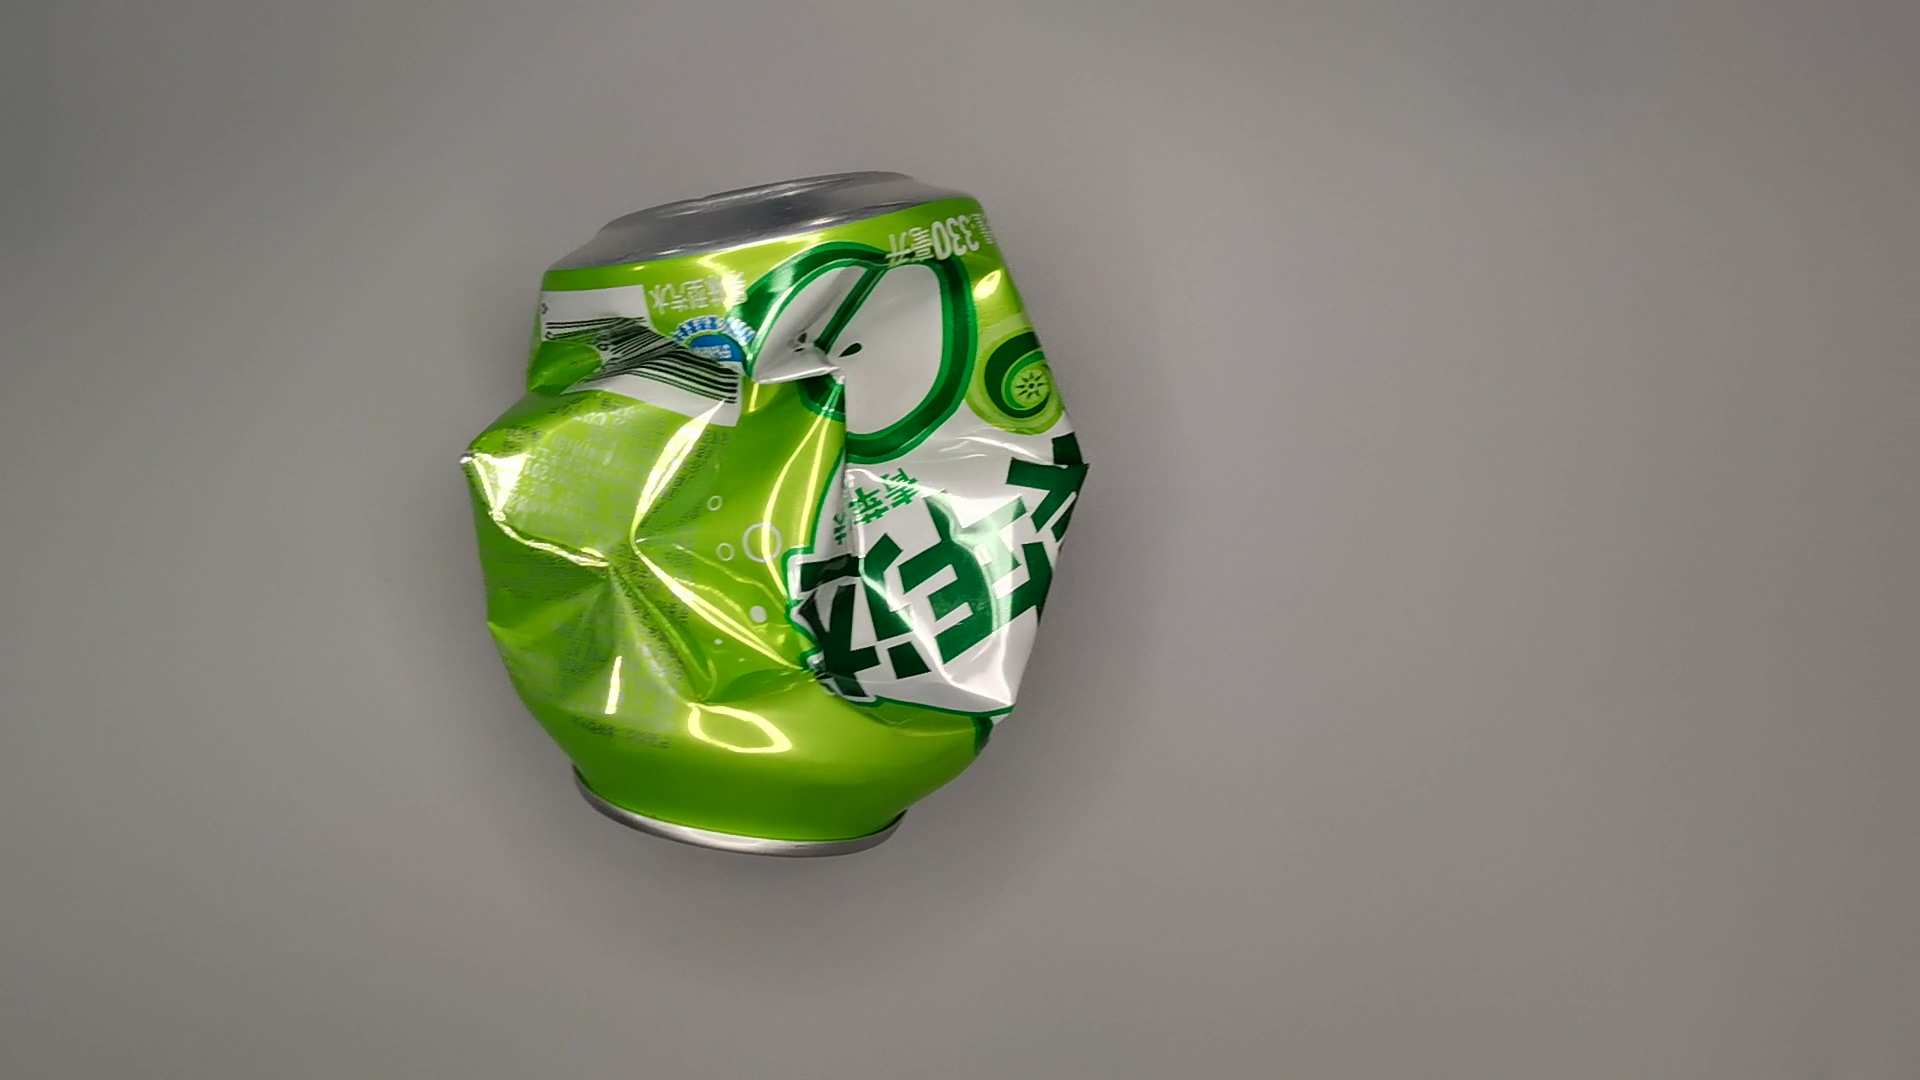can: (464, 164, 1093, 872)
